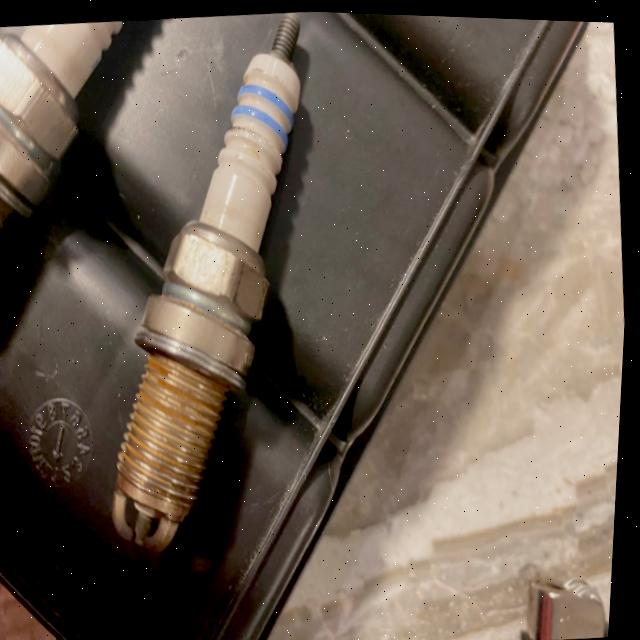spark-plug: (47, 2, 370, 569)
